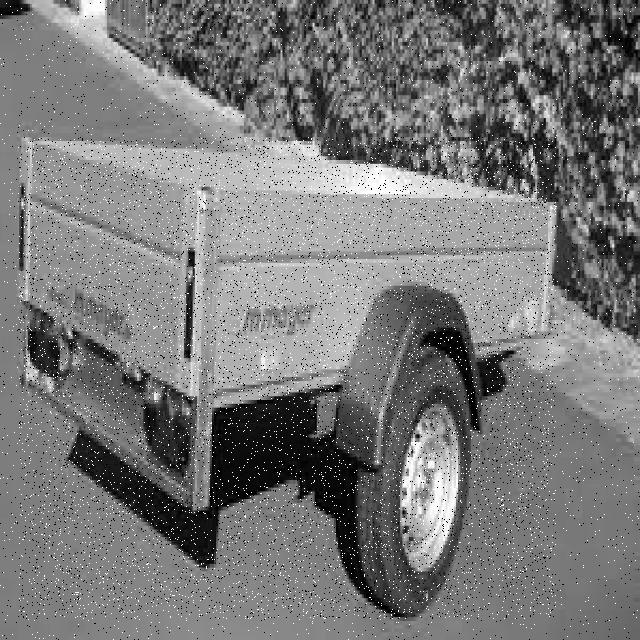Box Truck: (19, 137, 556, 619)
